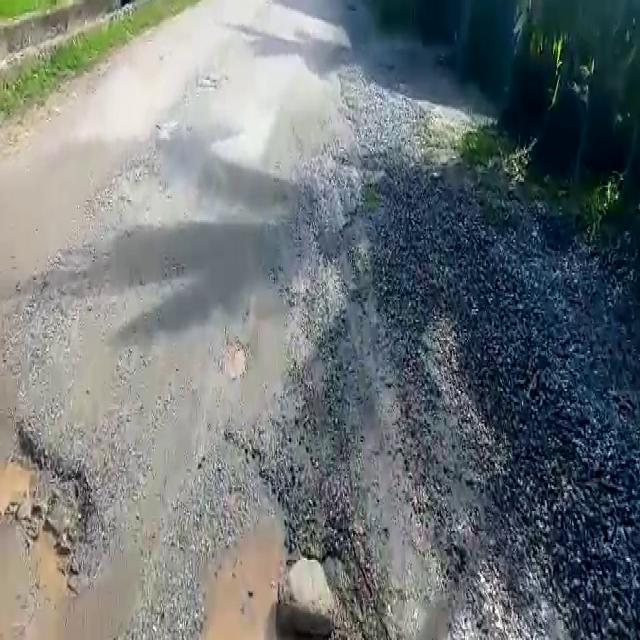Pothole: (2, 423, 97, 597), (195, 515, 302, 640)
